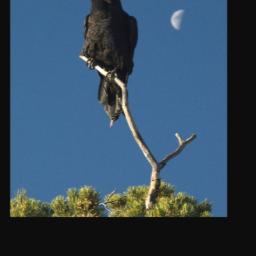Crow: (70, 0, 139, 130)
